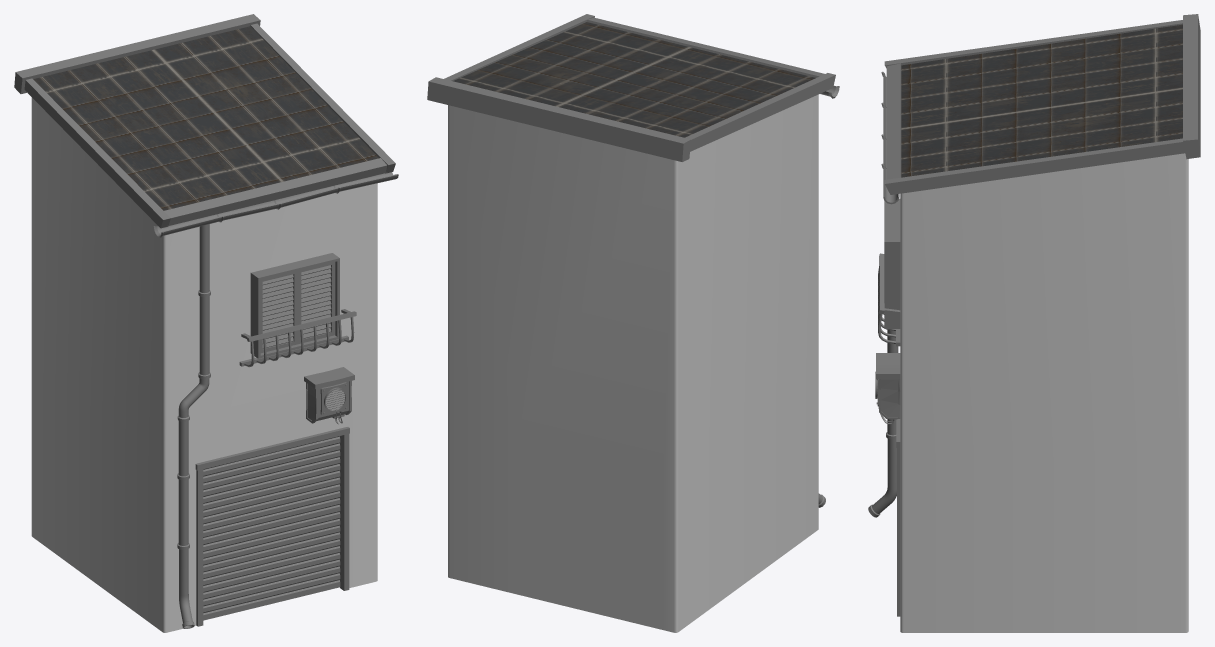
Rendered from SM_house_japan_05.fbx.
3 renders of one model, left to right at view 1: azimuth 30°, elevation 25°; view 2: azimuth 150°, elevation 25°; view 3: azimuth 270°, elevation 25°, orthographic. The views are drawn at different scales.
Visible parts, largest first — view 1: Object32343; view 2: Object32343; view 3: Object32343.
Part boxes in pixels (x1,y1,x2,y2): Object32343: (14, 14, 398, 632); Object32343: (427, 14, 839, 632); Object32343: (868, 14, 1200, 632).
Size of the model in its own units: 205 by 382 by 230.
